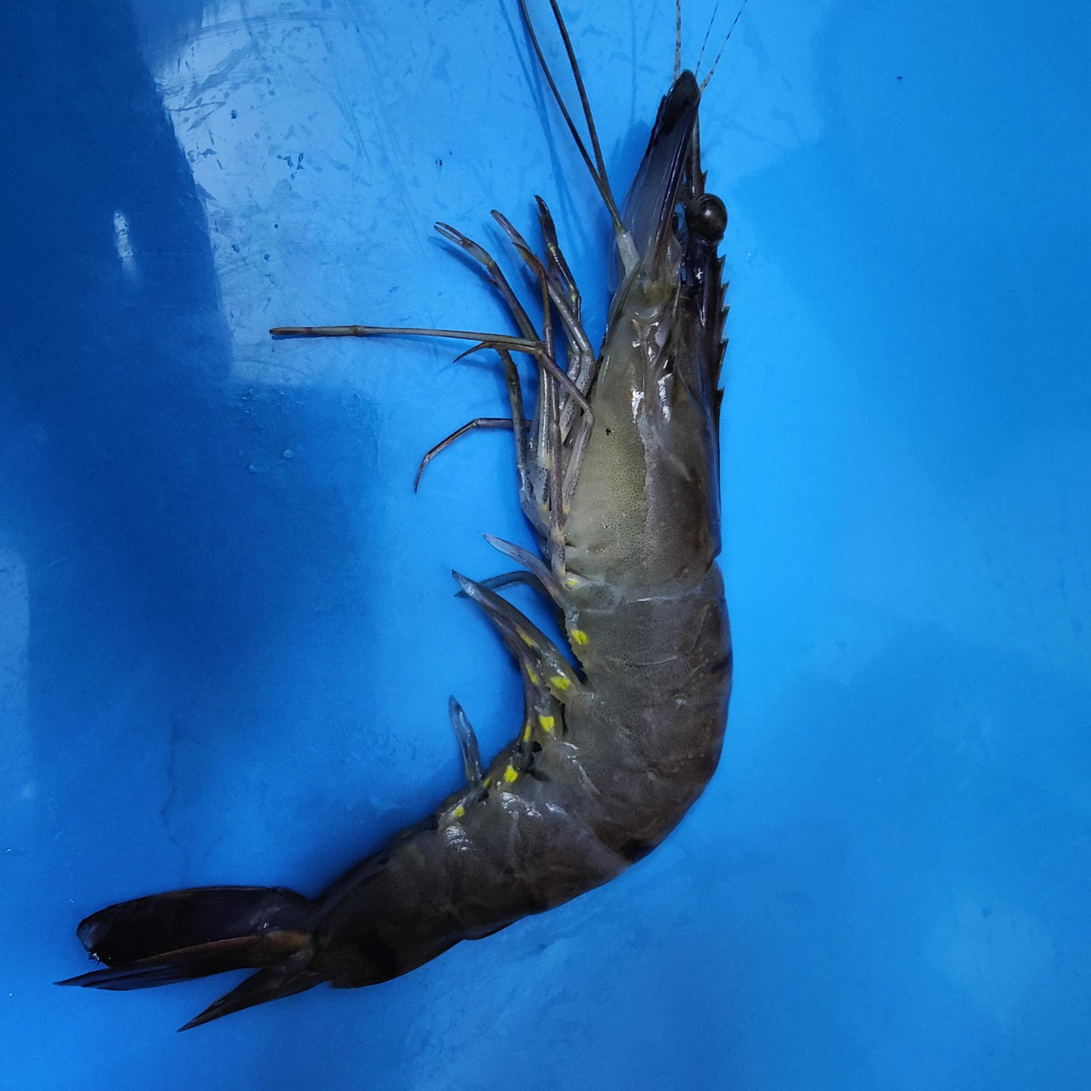whitespot: (604, 461, 707, 555), (678, 625, 729, 694), (651, 732, 717, 783)
